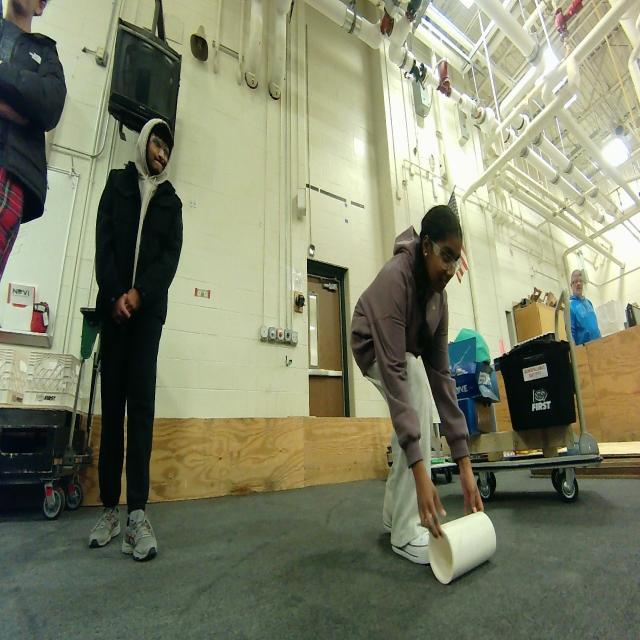coral: (428, 510, 497, 584)
